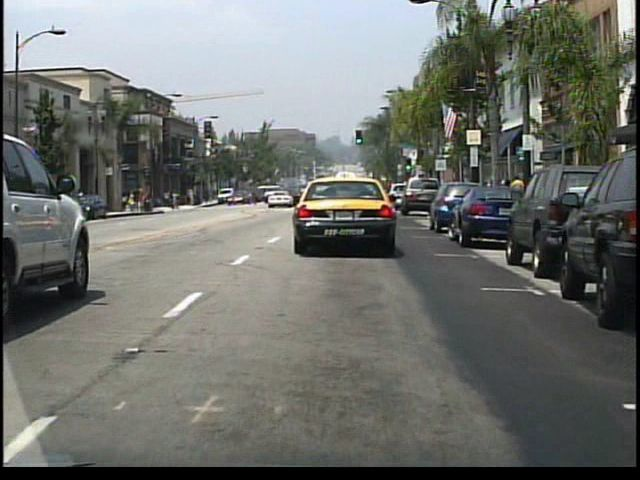person: (510, 173, 526, 214), (170, 191, 178, 211)
